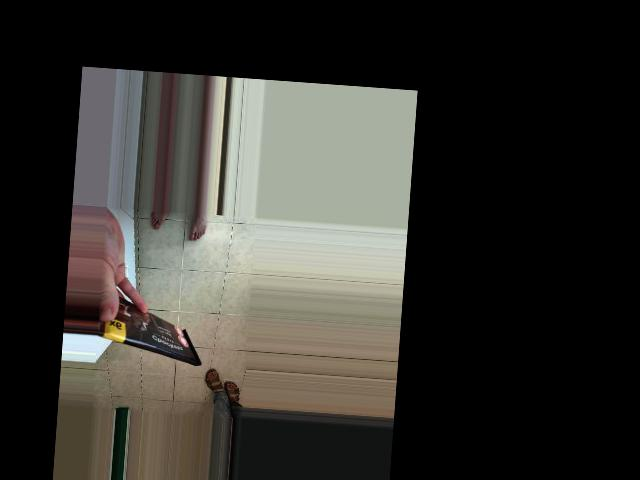chocolate: (143, 261, 218, 371)
